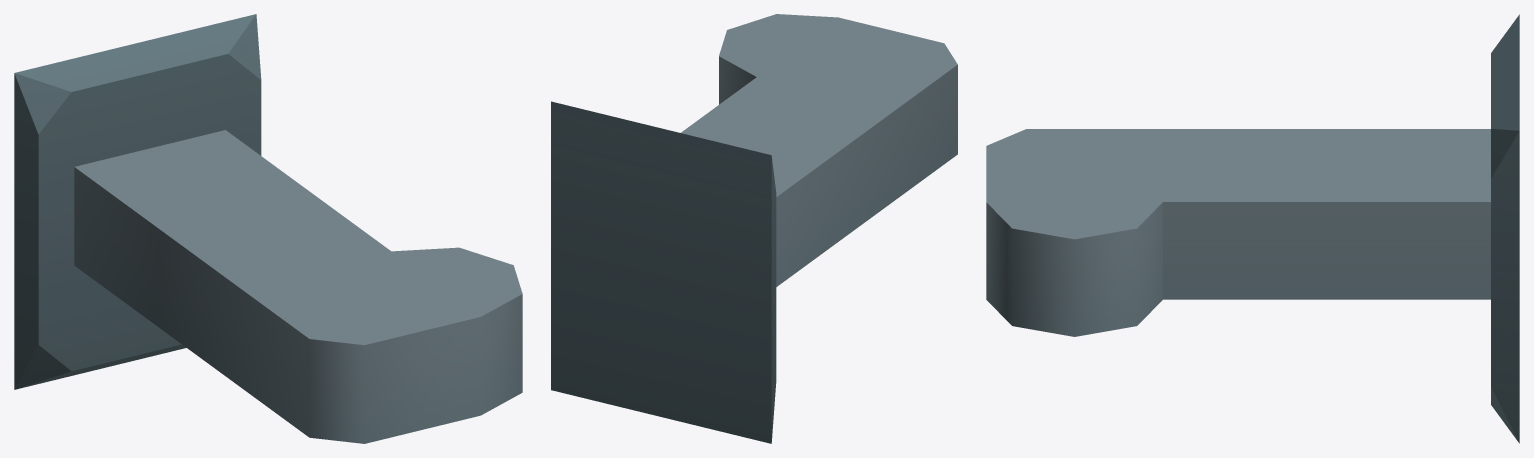
File: Security_cam_004.fbx
The picture shows the model from 3 angles, left to right: view 1: azimuth 30°, elevation 25°; view 2: azimuth 150°, elevation 25°; view 3: azimuth 270°, elevation 25°; orthographic projection. The views are drawn at different scales.
Parts seen in each view (by area): view 1: Security_cam_004; view 2: Security_cam_004; view 3: Security_cam_004.
Part boxes in pixels (x1=…): Security_cam_004: x1=14, y1=14, x2=522, y2=443; Security_cam_004: x1=551, y1=14, x2=957, y2=443; Security_cam_004: x1=986, y1=14, x2=1519, y2=443.
Size of the model in its own units: 17.62 by 30.04 by 19.46.
